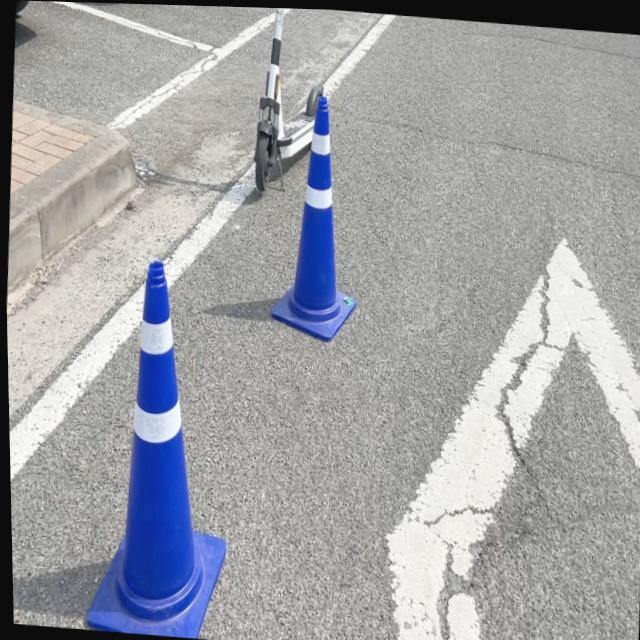b_rub: (84, 259, 223, 637), (270, 92, 356, 338)
